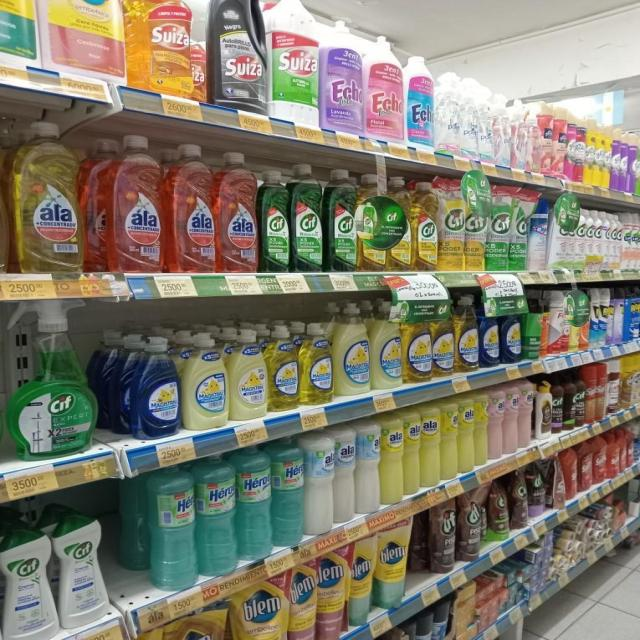ala_conc_amarillo: (14, 122, 84, 274)
ala_conc_rojo: (106, 133, 165, 274), (167, 142, 216, 274), (216, 150, 258, 274)
ala_crem_amarillo: (381, 410, 403, 506), (421, 403, 441, 489), (404, 406, 420, 496), (458, 394, 474, 476), (442, 398, 458, 480), (474, 392, 488, 467)
ala_crem_blanco: (305, 428, 334, 536), (356, 416, 380, 515), (334, 422, 356, 525)
ala_crem_rosado: (488, 388, 504, 460), (504, 384, 518, 456), (519, 380, 533, 449)
cif_conc_bot_amarilla: (411, 180, 437, 271)
cif_conc_botella_verde: (291, 164, 324, 273), (260, 167, 290, 273), (326, 167, 356, 273)
cif_conc_sachet_amarillo: (438, 178, 464, 271), (464, 181, 486, 272)
cif_conc_sachet_verde: (487, 186, 509, 271), (510, 188, 528, 271)
heroe: (148, 462, 196, 590), (197, 452, 236, 576), (237, 442, 272, 561), (272, 435, 304, 546)
magistral_con_amarillo: (300, 322, 333, 405), (268, 324, 298, 411), (403, 305, 432, 383), (455, 296, 478, 373), (432, 304, 454, 377)
magistral_con_azul: (132, 334, 180, 438), (480, 296, 500, 368), (502, 299, 522, 364)
magistral_con_crema: (182, 331, 228, 430), (229, 328, 267, 420), (334, 301, 370, 396), (372, 300, 402, 390)
